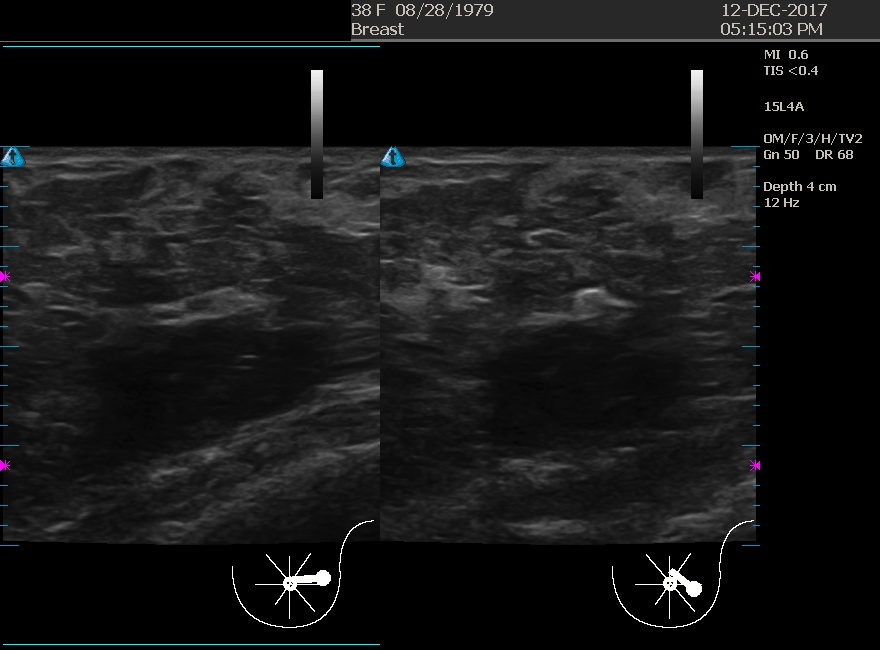BIRADS_4: (109, 282, 309, 484), (441, 286, 641, 486)
